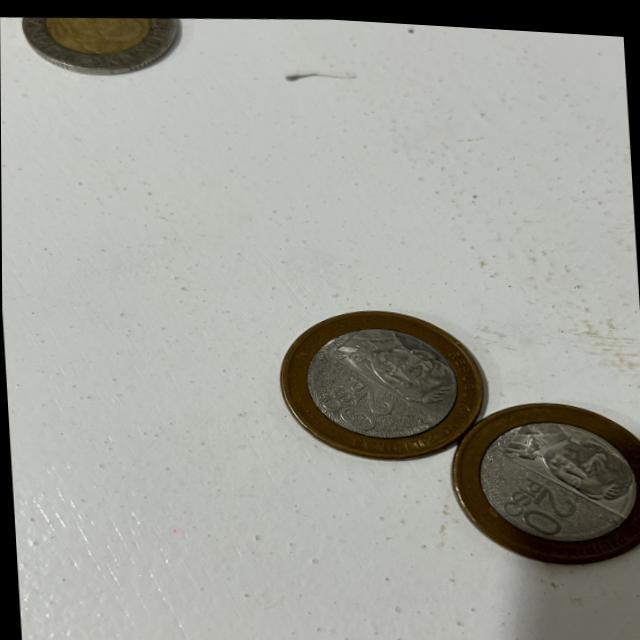20_New_Front: (309, 360, 398, 432), (494, 463, 577, 532)
